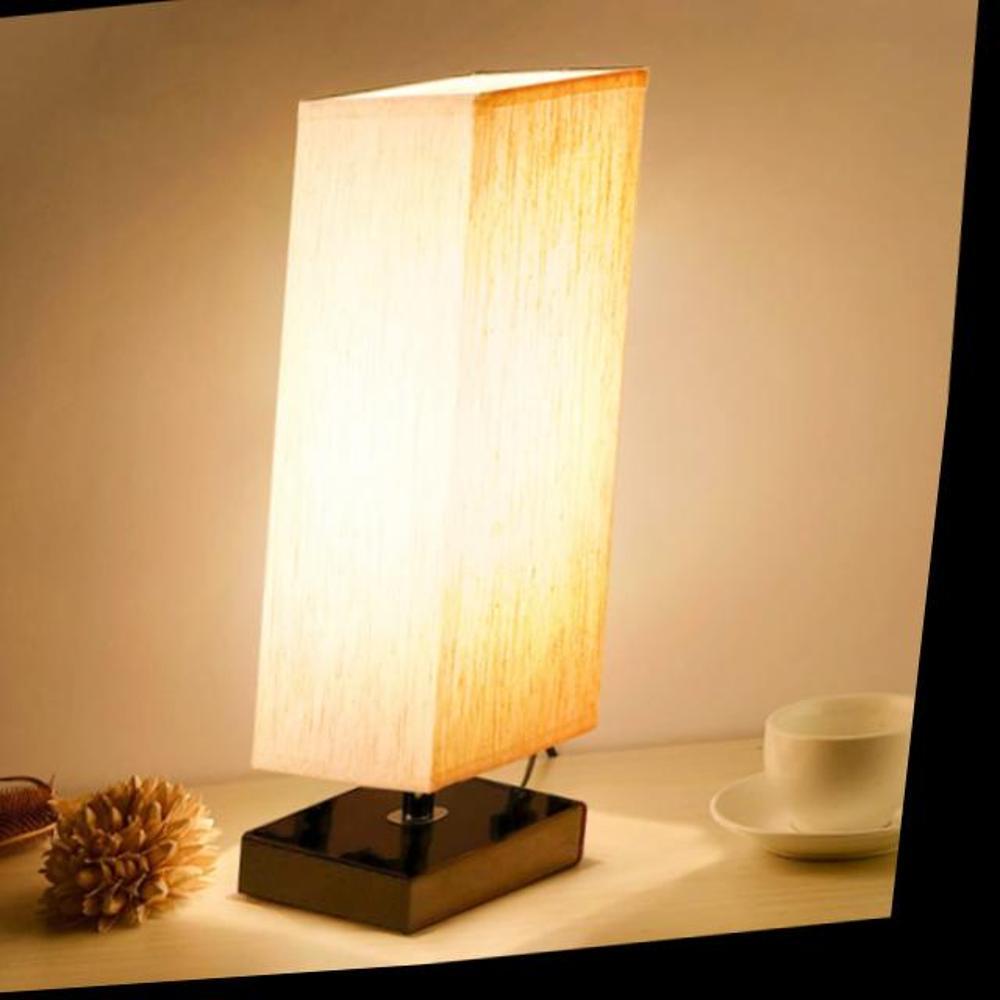shelf: (192, 1, 735, 983)
